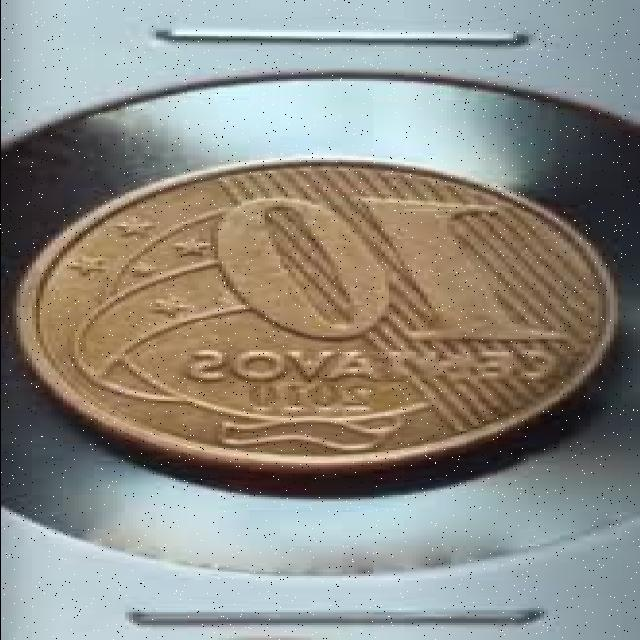10 cent: (8, 164, 606, 474)
